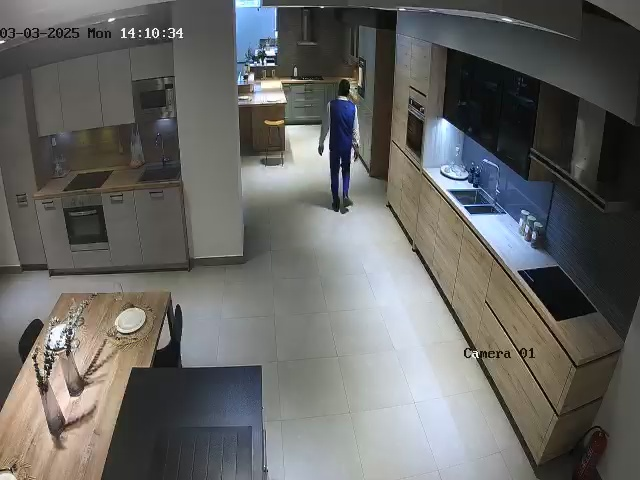employee: (318, 79, 361, 213)
